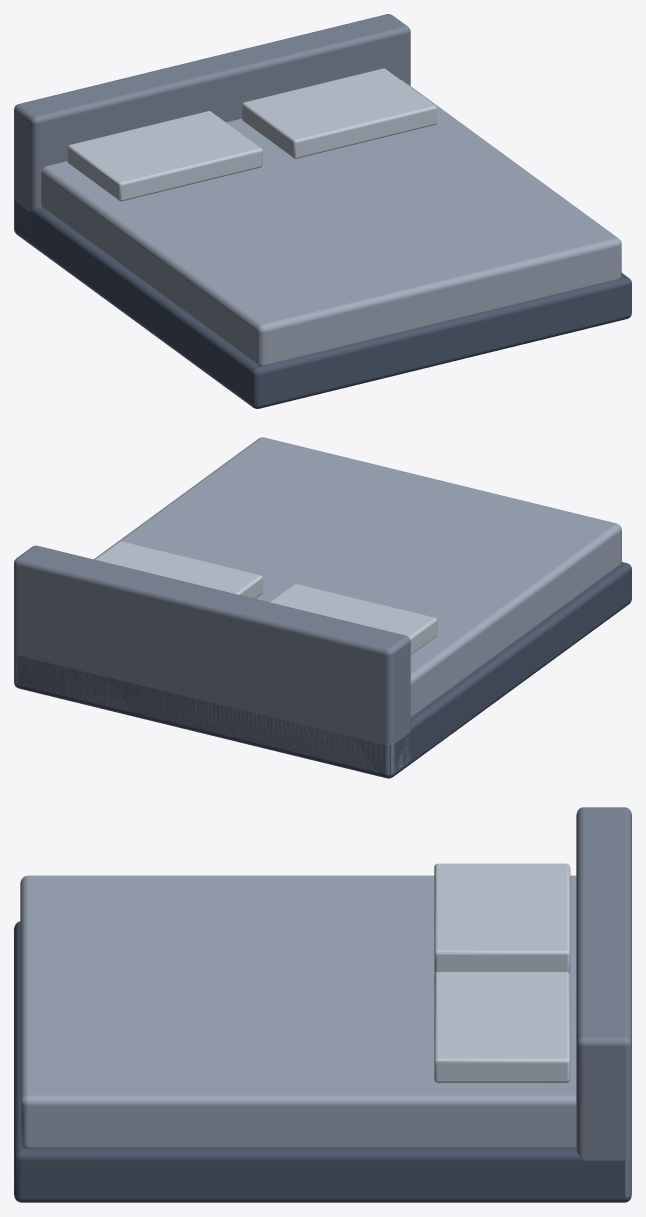
Rendered from bed-lite.glb.
3 renders of one model, top to bottom at view 1: azimuth 30°, elevation 25°; view 2: azimuth 150°, elevation 25°; view 3: azimuth 270°, elevation 25°, orthographic. The views are drawn at different scales.
Visible parts, largest first — view 1: bed; view 2: bed; view 3: bed.
Part boxes in pixels (x1,y1,x2,y2): bed: [14, 14, 631, 408]; bed: [14, 437, 631, 778]; bed: [14, 807, 631, 1202].
Bounding box in the file's own units: 1.8 × 0.5921 × 2.
